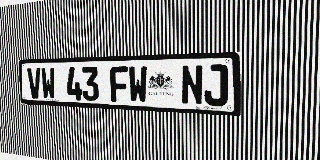3: (82, 67, 99, 101)
4: (66, 67, 82, 100)
F: (110, 66, 128, 102)
J: (204, 64, 228, 107)
N: (181, 65, 203, 106)
V: (27, 68, 42, 99)
W: (128, 66, 148, 103), (41, 67, 56, 99)
